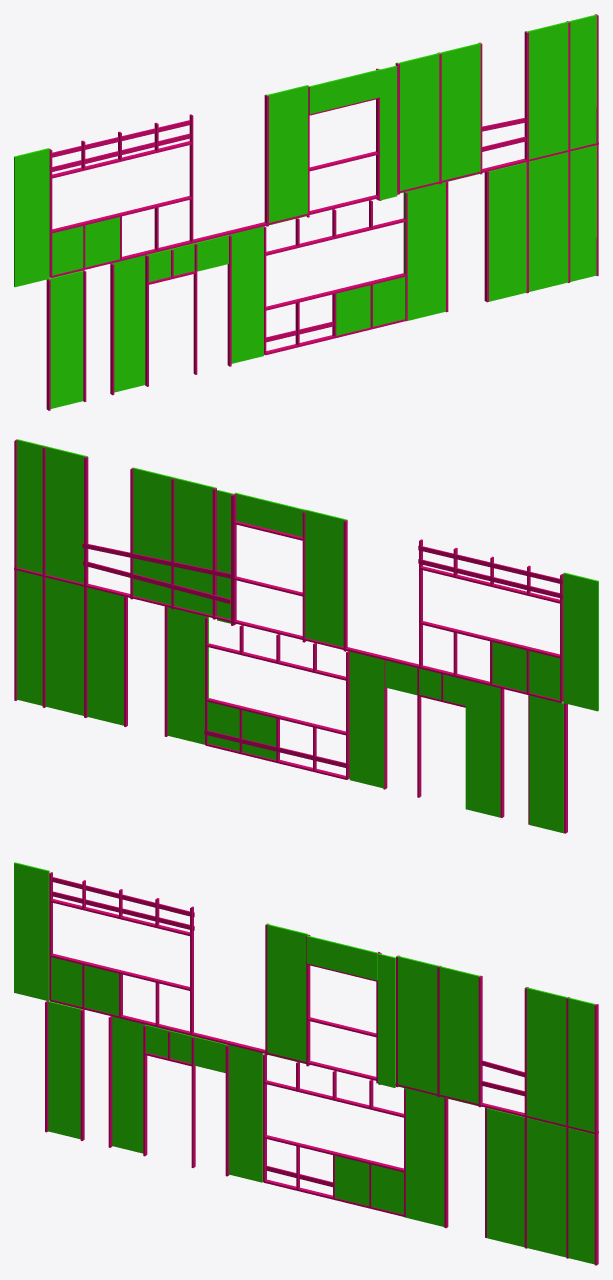
File: BH07_Wall_01_Break_B.fbx
3 views of the same model, one above another, from view 1: azimuth 30°, elevation 25°; view 2: azimuth 150°, elevation 25°; view 3: azimuth 330°, elevation 25° (orthographic).
Parts seen in each view (by area): view 1: BH07_Wall_01_Break_B; view 2: BH07_Wall_01_Break_B; view 3: BH07_Wall_01_Break_B.
Boxes of the visible parts, x1,y1,x2,y2 form: BH07_Wall_01_Break_B: [14, 14, 598, 410]; BH07_Wall_01_Break_B: [14, 439, 598, 833]; BH07_Wall_01_Break_B: [14, 862, 598, 1265].
Size of the model in its own units: 1410 by 602 by 18.2.
